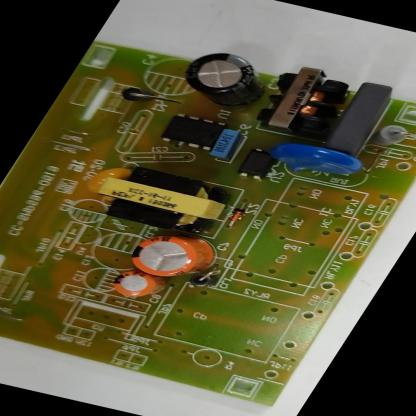Cap1: (121, 228, 225, 285)
Cap2: (106, 267, 170, 302)
Cap3: (170, 47, 275, 112)
MOSFET: (160, 113, 228, 151)
Mov: (269, 138, 369, 181)
Resistor: (368, 121, 416, 152)
Transformer: (88, 164, 236, 238), (252, 62, 358, 136)
